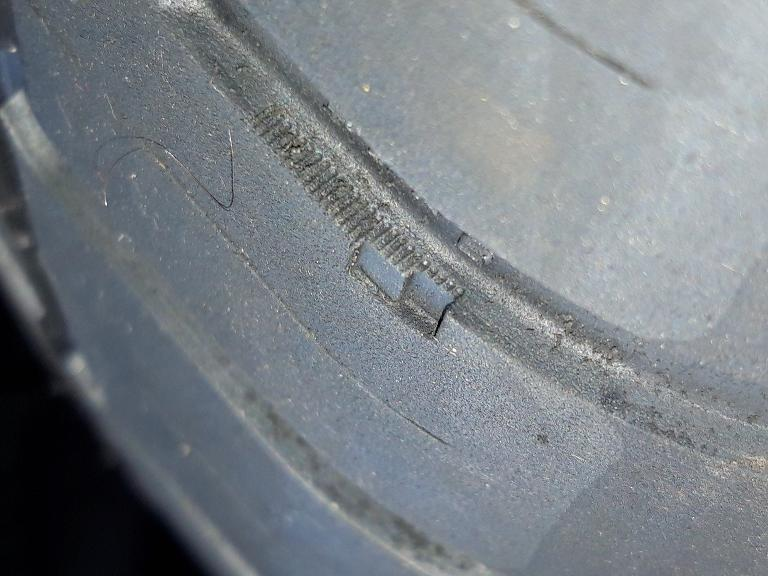temoin:25: (337, 214, 476, 350)
